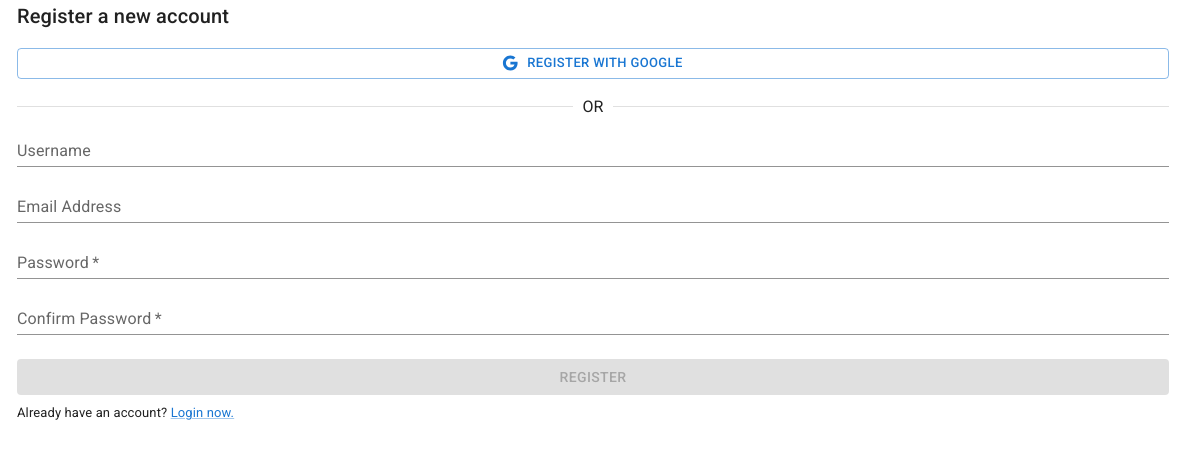
Test: <Register /> › Attempting to register with invalid email displays error message
Type "update" into the field with placeholder "Username" at (593, 151), box [17,135,1169,167]
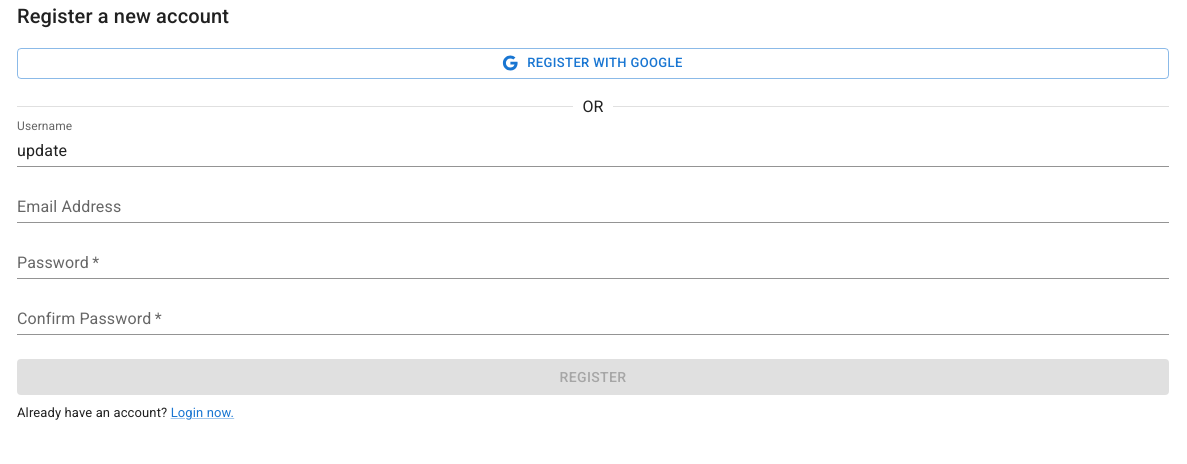
Type "update" into the field with placeholder "Email Address" at (593, 207), box [17,191,1169,223]
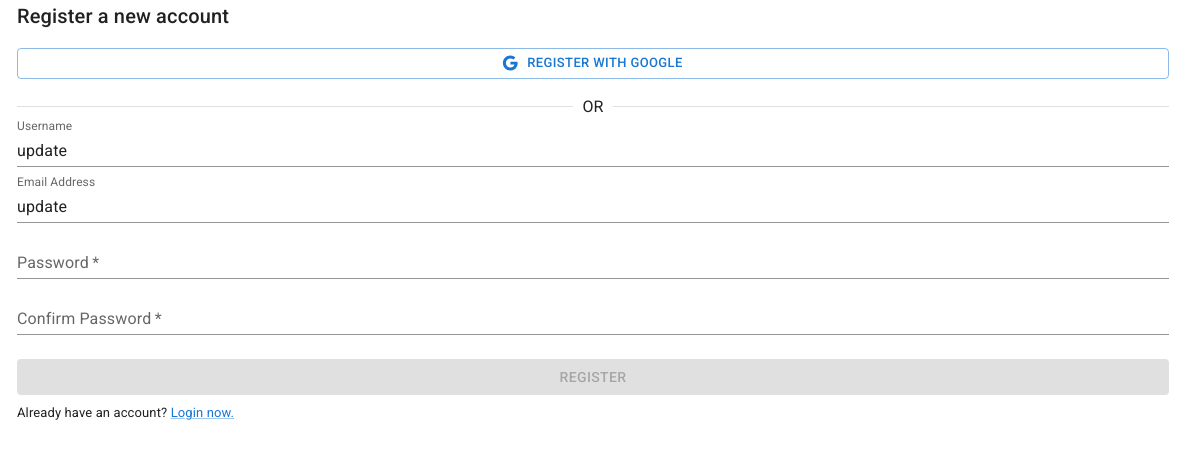
Type "update" into the password field with placeholder "Password" at (593, 263), box [17,247,1169,279]
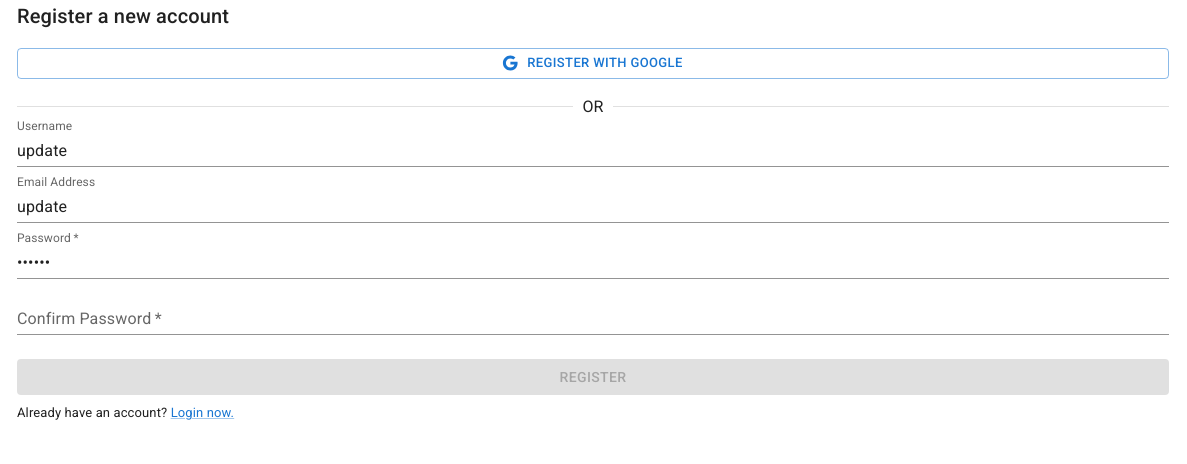
Type "update" into the password field with placeholder "Confirm Password" at (593, 319), box [17,303,1169,335]
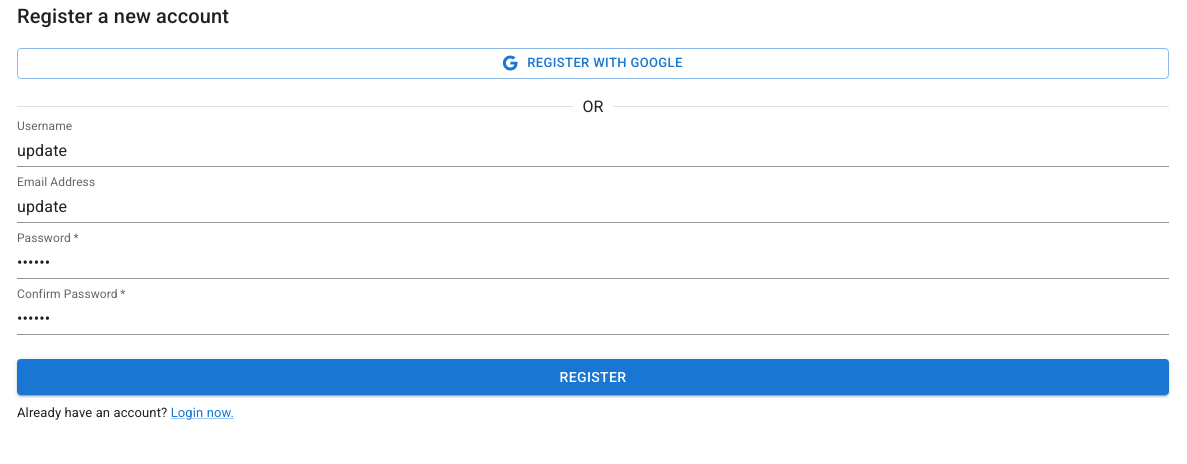
Click the button "Register" at (593, 377), box [17,359,1169,395]
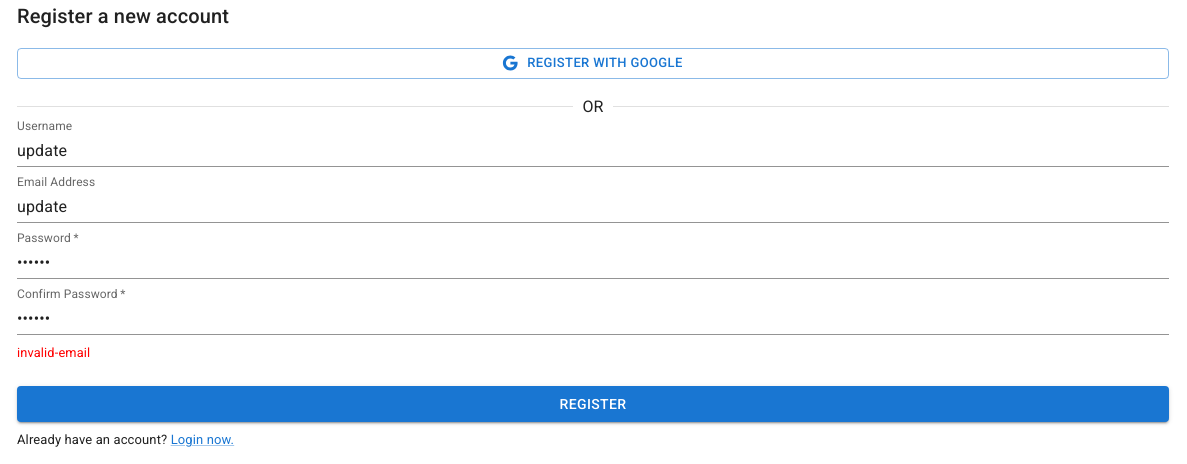
Result: the list item "invalid-email" is shown at [17,345,90,360]
